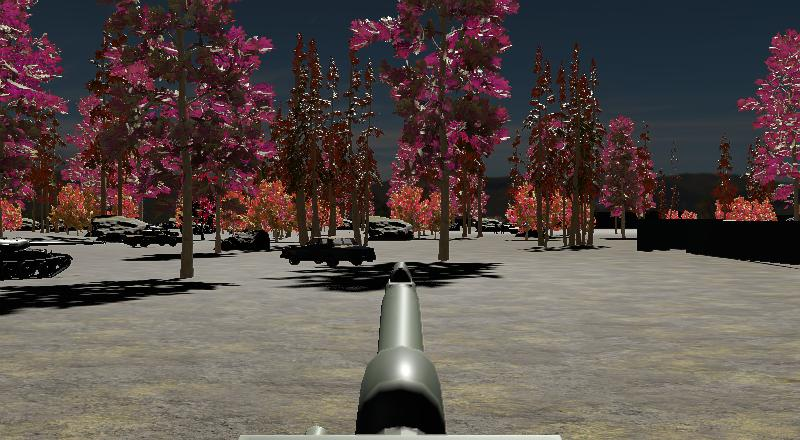Tank: (0, 234, 104, 282)
car: (278, 233, 378, 269)
